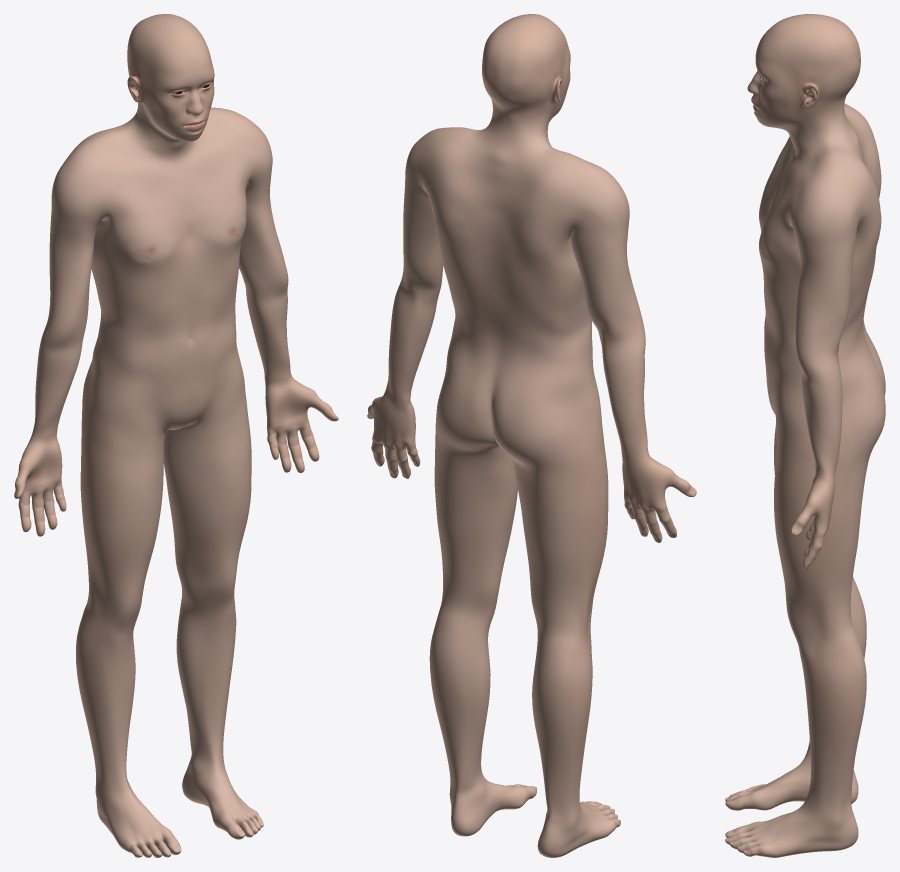
File: male.glb
3 views of the same model, side by side, from view 1: azimuth 30°, elevation 25°; view 2: azimuth 150°, elevation 25°; view 3: azimuth 270°, elevation 25° (orthographic).
Parts seen in each view (by area): view 1: Skin_Body; view 2: Skin_Body; view 3: Skin_Body.
Boxes of the visible parts, bbox=[...] form: Skin_Body: bbox=[14, 14, 338, 857]; Skin_Body: bbox=[367, 14, 696, 857]; Skin_Body: bbox=[725, 14, 885, 857].
Bounding box in the file's own units: 0.7207 × 1.72 × 0.3076.
Materials: 9 (8 with a texture image).
